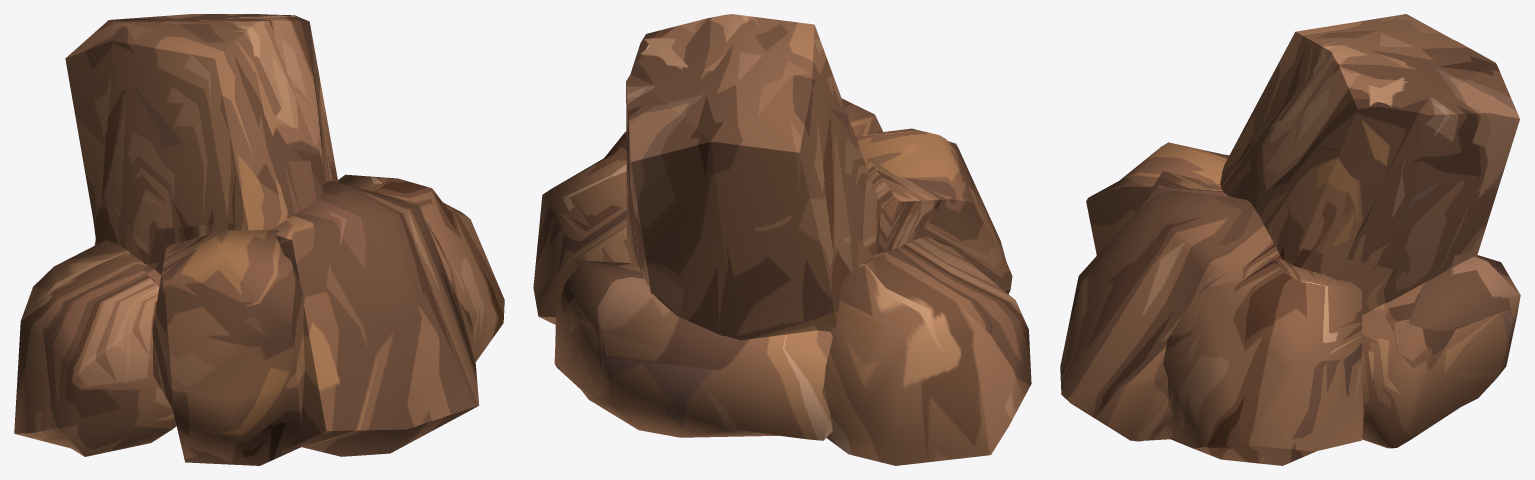
The model's file is rock_0.FBX.
The picture shows the model from 3 angles, left to right: view 1: azimuth 30°, elevation 25°; view 2: azimuth 150°, elevation 25°; view 3: azimuth 270°, elevation 25°; orthographic projection. The views are drawn at different scales.
Visible parts, largest first — view 1: rock_0; view 2: rock_0; view 3: rock_0.
Part boxes in pixels (x1,y1,x2,y2): rock_0: [14, 14, 504, 465]; rock_0: [533, 14, 1031, 465]; rock_0: [1060, 14, 1520, 465].
Bounding box in the file's own units: 17.07 × 15.33 × 12.86.
1 material, 1 textured.
